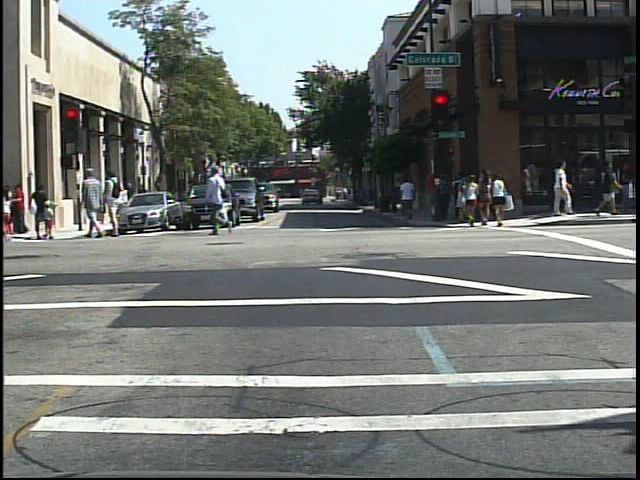person: (205, 162, 237, 238), (77, 164, 107, 244), (104, 167, 128, 238), (3, 179, 13, 241)
